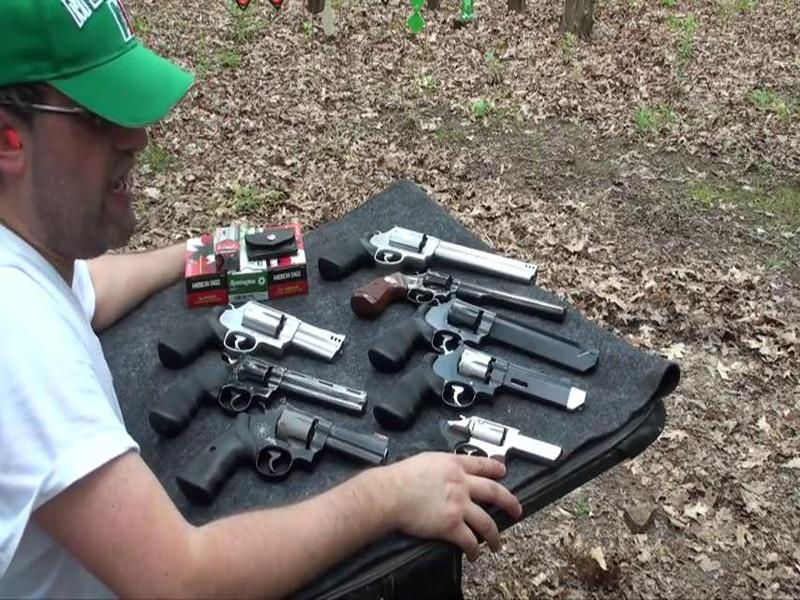Revolver: (330, 265, 580, 343)
